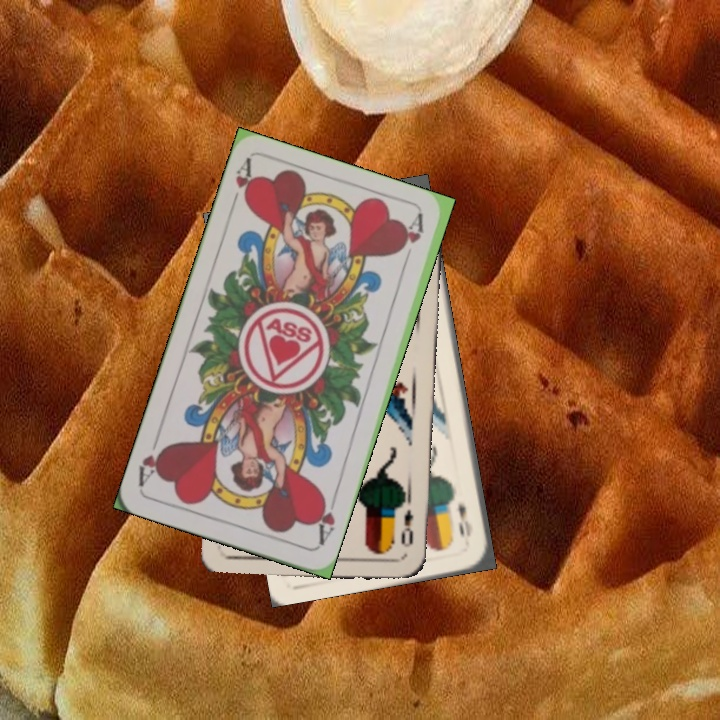EO: (454, 500, 475, 541), (397, 505, 416, 550)
HA: (225, 156, 258, 214), (311, 490, 340, 548)
